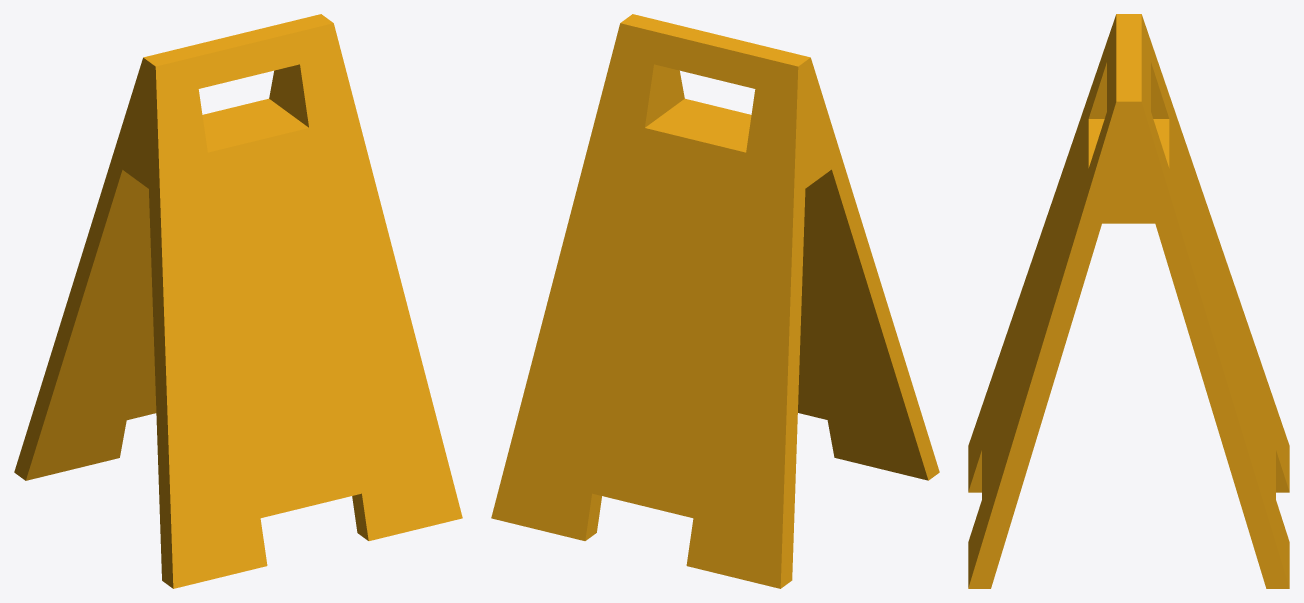
The model's file is Mixed_WetFlor_01.fbx.
The picture shows the model from 3 angles, left to right: view 1: azimuth 30°, elevation 25°; view 2: azimuth 150°, elevation 25°; view 3: azimuth 270°, elevation 25°; orthographic projection.
Visible parts, largest first — view 1: Mixed_WetFlor_01; view 2: Mixed_WetFlor_01; view 3: Mixed_WetFlor_01.
Part boxes in pixels (left/top/right/bottom): Mixed_WetFlor_01: left=14, top=14, right=462, bottom=588; Mixed_WetFlor_01: left=491, top=14, right=939, bottom=588; Mixed_WetFlor_01: left=968, top=14, right=1289, bottom=588.
Size of the model in its own units: 65.59 by 98.53 by 62.48.
